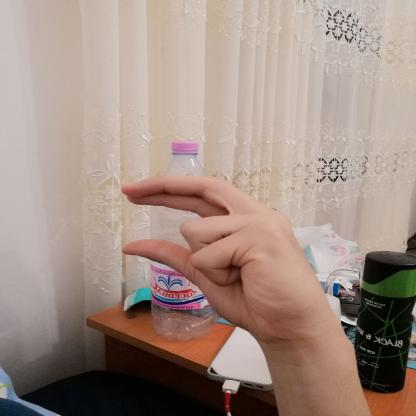DHELL: (105, 163, 342, 345)
